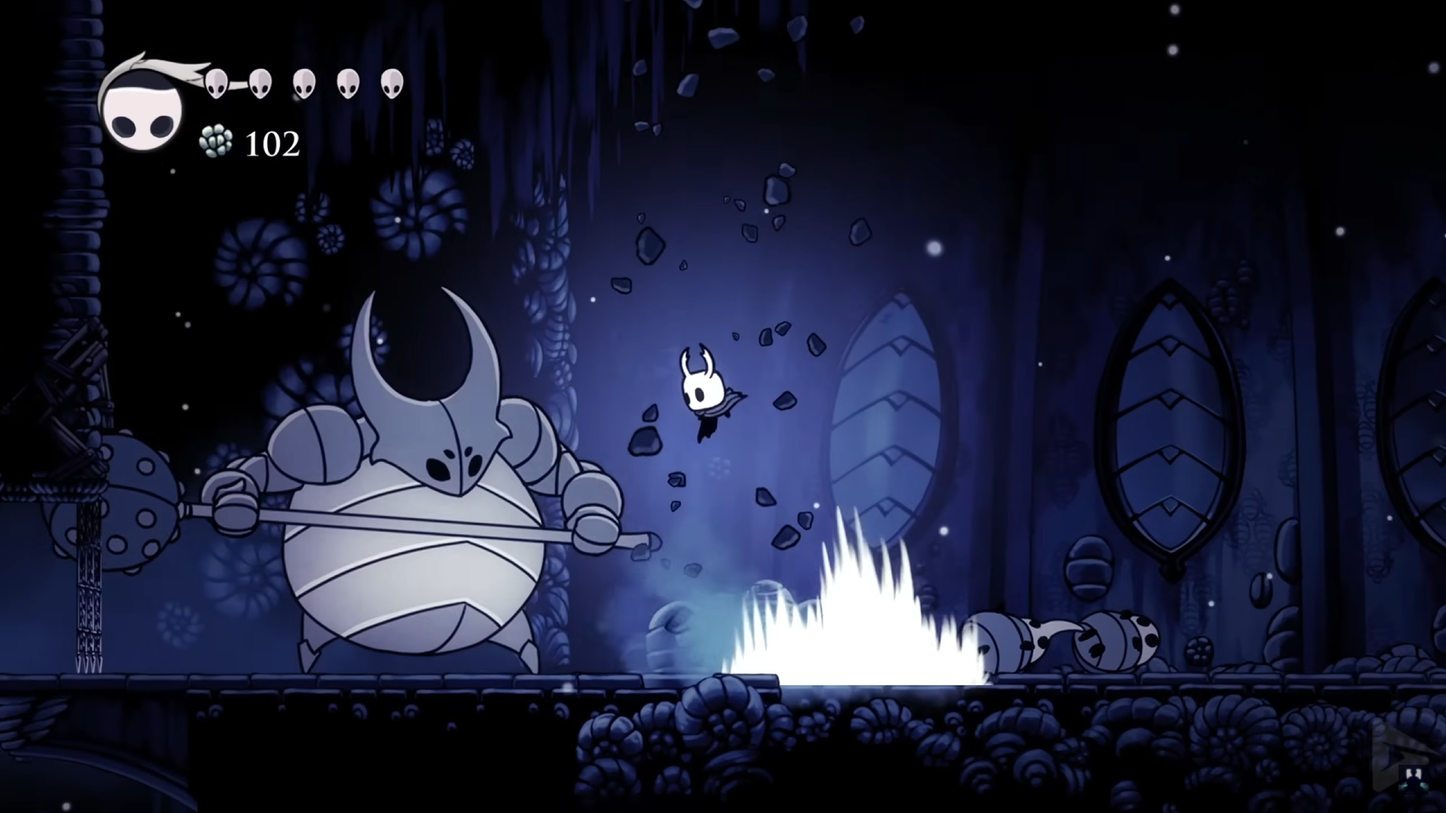HK: (670, 340, 734, 443)
